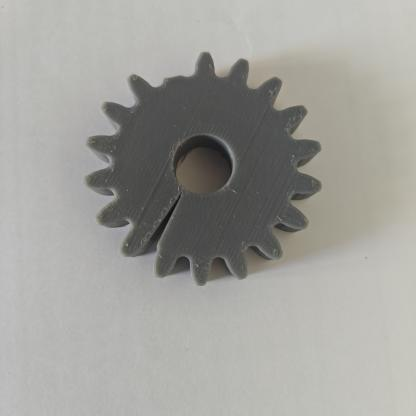defect: (98, 169, 211, 286), (122, 48, 228, 113)
gear: (74, 40, 334, 302)
